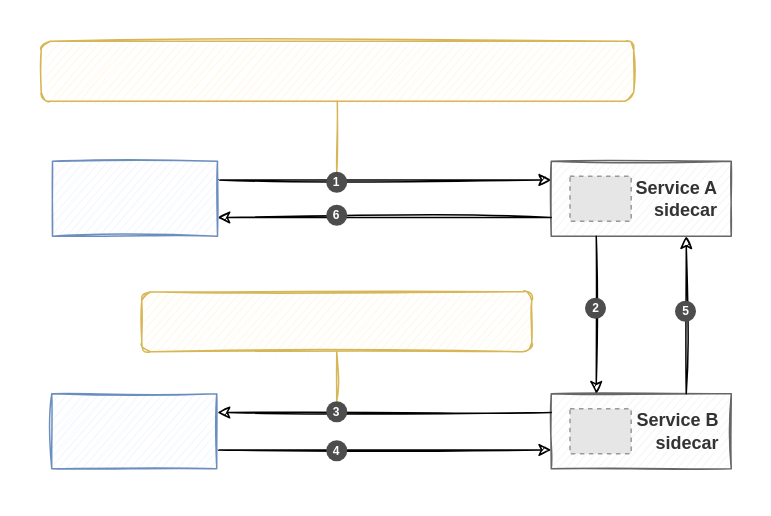
This 771x516 diagram has some shape labels left out. Grey dashed boxes stand in for pictures. The centre of each missing label's shape, as x and y in pixels:
"GET http://localhost:3500/catalog/items" goes at [336,321].
"GET http://localhost:3500/v1.0/invoke/serviceb/method/catalog/items" goes at [337,70].
"Service A" goes at [134,198].
"Service B" goes at [133,430].
